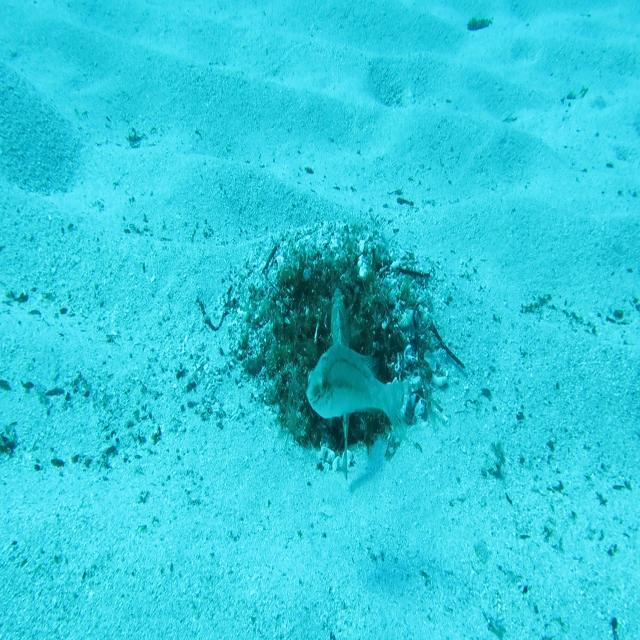FAN: (328, 285, 353, 488)
core_nest: (308, 274, 358, 305)
female: (304, 340, 415, 451)
nest: (227, 212, 458, 484)
vegetation: (467, 12, 493, 36)
